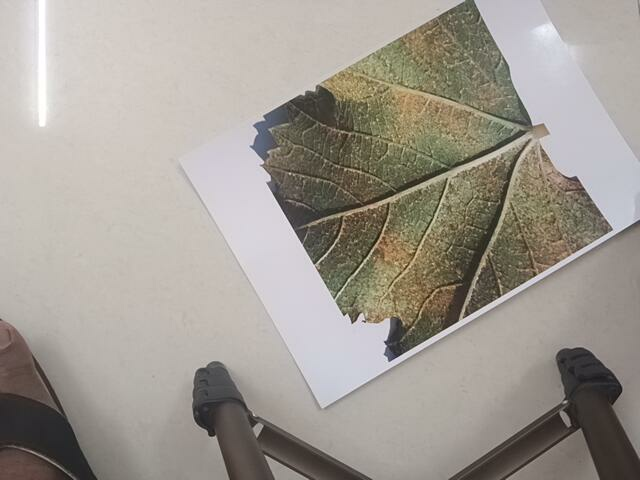Grape_Rust_Fungus: (263, 6, 619, 350)
